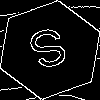S: (25, 25, 75, 80)
